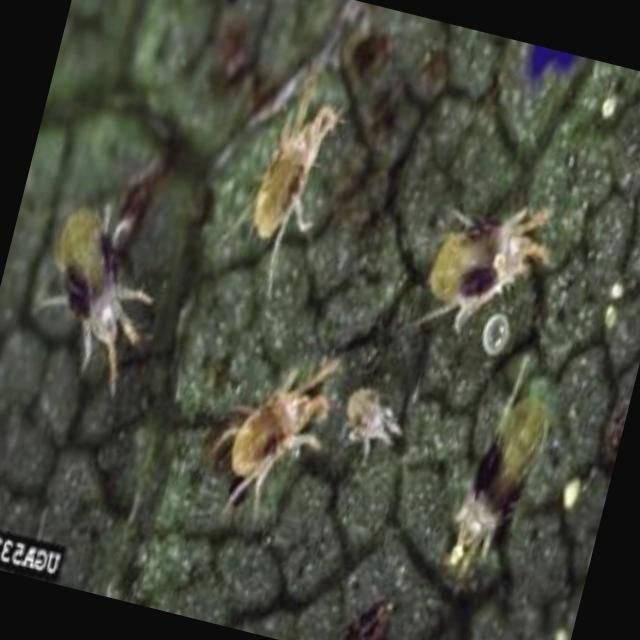spider mite: (401, 324, 614, 619), (0, 164, 203, 393), (358, 172, 568, 366), (164, 326, 344, 552), (200, 44, 348, 278), (316, 351, 424, 475)
